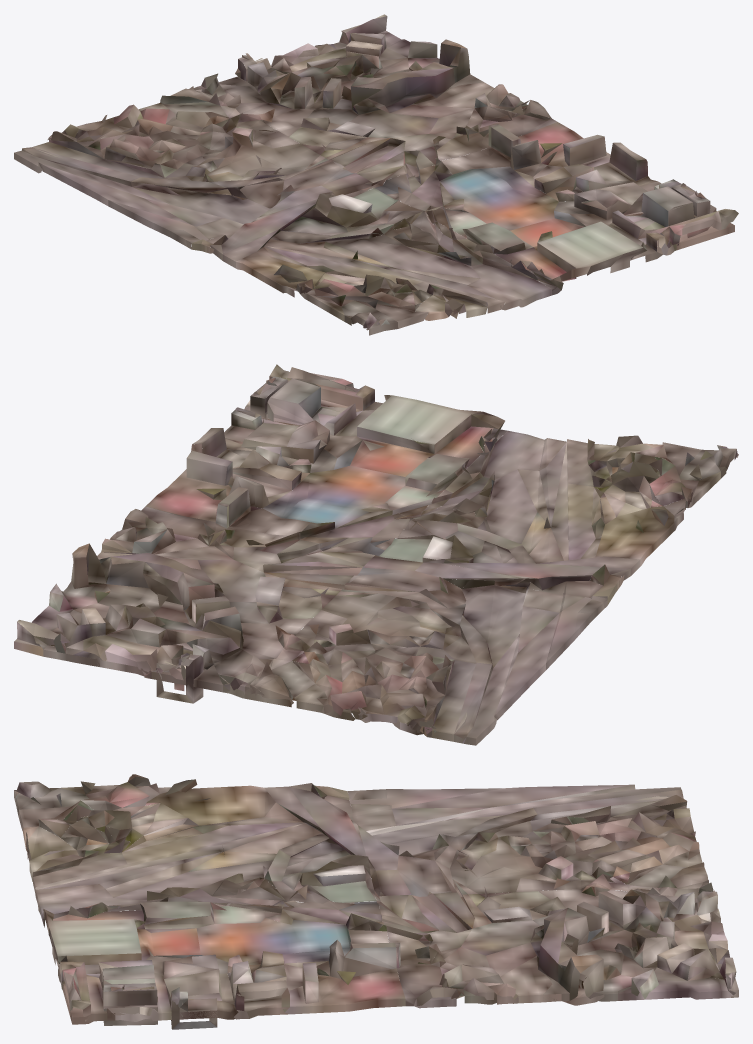
The picture shows the model from 3 angles, top to bottom: view 1: azimuth 30°, elevation 25°; view 2: azimuth 150°, elevation 25°; view 3: azimuth 270°, elevation 25°; orthographic projection. The views are drawn at different scales.
Visible parts, largest first — view 1: Mesh_0; view 2: Mesh_0; view 3: Mesh_0.
Boxes of the visible parts, x1,y1,x2,y2 form: Mesh_0: [14, 14, 738, 335]; Mesh_0: [14, 364, 738, 745]; Mesh_0: [14, 774, 738, 1029].
Size of the model in its own units: 537 by 66.79 by 659.
Materials: 2 (2 with a texture image).
